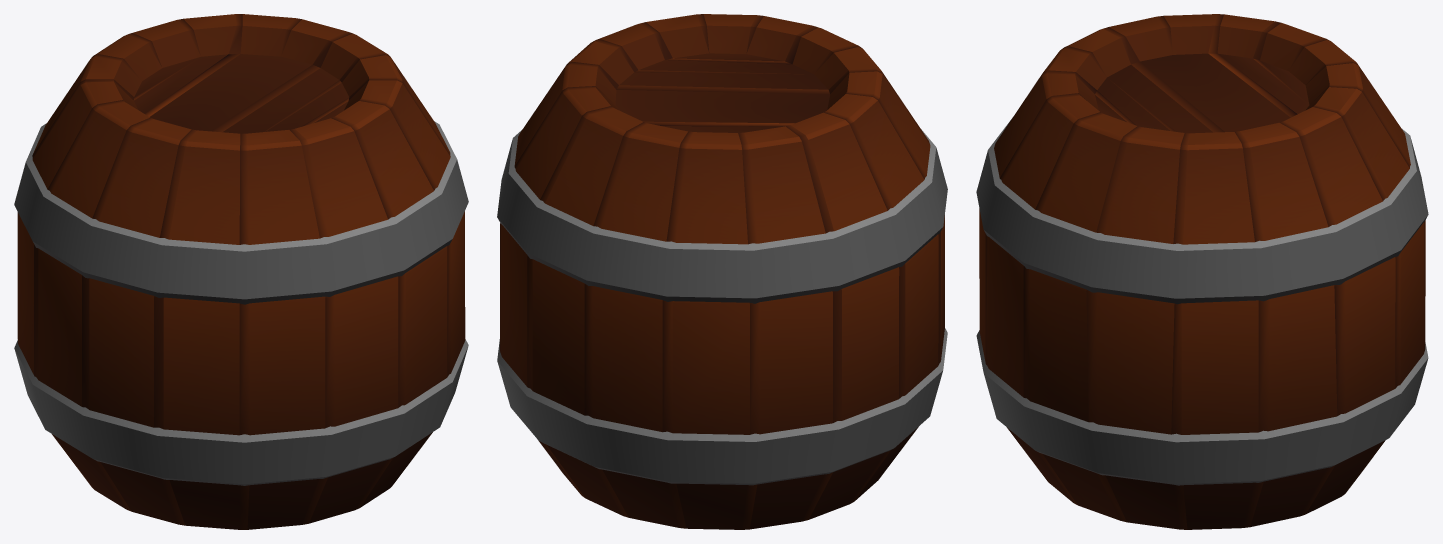
The model's file is Barrel_Exploited_VC.fbx.
3 renders of one model, left to right at view 1: azimuth 30°, elevation 25°; view 2: azimuth 150°, elevation 25°; view 3: azimuth 270°, elevation 25°, orthographic.
Visible parts, largest first — view 1: Barrel_Exploded.004, Barrel_Exploded.009, Barrel_Exploded, Barrel_Exploded.002, Barrel_Exploded.003, Barrel_Exploded.001, Barrel_Exploded.006, Barrel_Exploded.007, Barrel_Exploded.008; view 2: Barrel_Exploded.006, Barrel_Exploded.009, Barrel_Exploded.002, Barrel_Exploded.003, Barrel_Exploded.001, Barrel_Exploded.007, Barrel_Exploded, Barrel_Exploded.004, Barrel_Exploded.008; view 3: Barrel_Exploded.007, Barrel_Exploded, Barrel_Exploded.002, Barrel_Exploded.008, Barrel_Exploded.003, Barrel_Exploded.001, Barrel_Exploded.006, Barrel_Exploded.009, Barrel_Exploded.004.
Part boxes in pixels (x1,y1,x2,y2): Barrel_Exploded.004: [163, 130, 325, 529]; Barrel_Exploded.009: [17, 79, 196, 525]; Barrel_Exploded: [289, 80, 465, 524]; Barrel_Exploded.002: [14, 121, 468, 304]; Barrel_Exploded.003: [14, 339, 468, 485]; Barrel_Exploded.001: [133, 54, 349, 133]; Barrel_Exploded.006: [33, 14, 236, 153]; Barrel_Exploded.007: [229, 14, 386, 79]; Barrel_Exploded.008: [340, 52, 465, 332]; Barrel_Exploded.006: [532, 108, 832, 529]; Barrel_Exploded.009: [786, 68, 944, 521]; Barrel_Exploded.002: [497, 129, 947, 303]; Barrel_Exploded.003: [497, 328, 947, 485]; Barrel_Exploded.001: [615, 53, 830, 132]; Barrel_Exploded.007: [500, 41, 633, 497]; Barrel_Exploded: [646, 14, 817, 64]; Barrel_Exploded.004: [792, 27, 880, 89]; Barrel_Exploded.008: [592, 22, 672, 71]; Barrel_Exploded.007: [1181, 104, 1400, 529]; Barrel_Exploded: [979, 70, 1137, 520]; Barrel_Exploded.002: [976, 119, 1428, 304]; Barrel_Exploded.008: [1086, 126, 1190, 529]; Barrel_Exploded.003: [976, 330, 1428, 485]; Barrel_Exploded.001: [1095, 53, 1309, 133]; Barrel_Exploded.006: [1260, 23, 1425, 487]; Barrel_Exploded.009: [1103, 14, 1281, 64]; Barrel_Exploded.004: [1043, 29, 1130, 89].
Bounding box in the file's own units: 0.3965 × 0.3701 × 0.3965.
